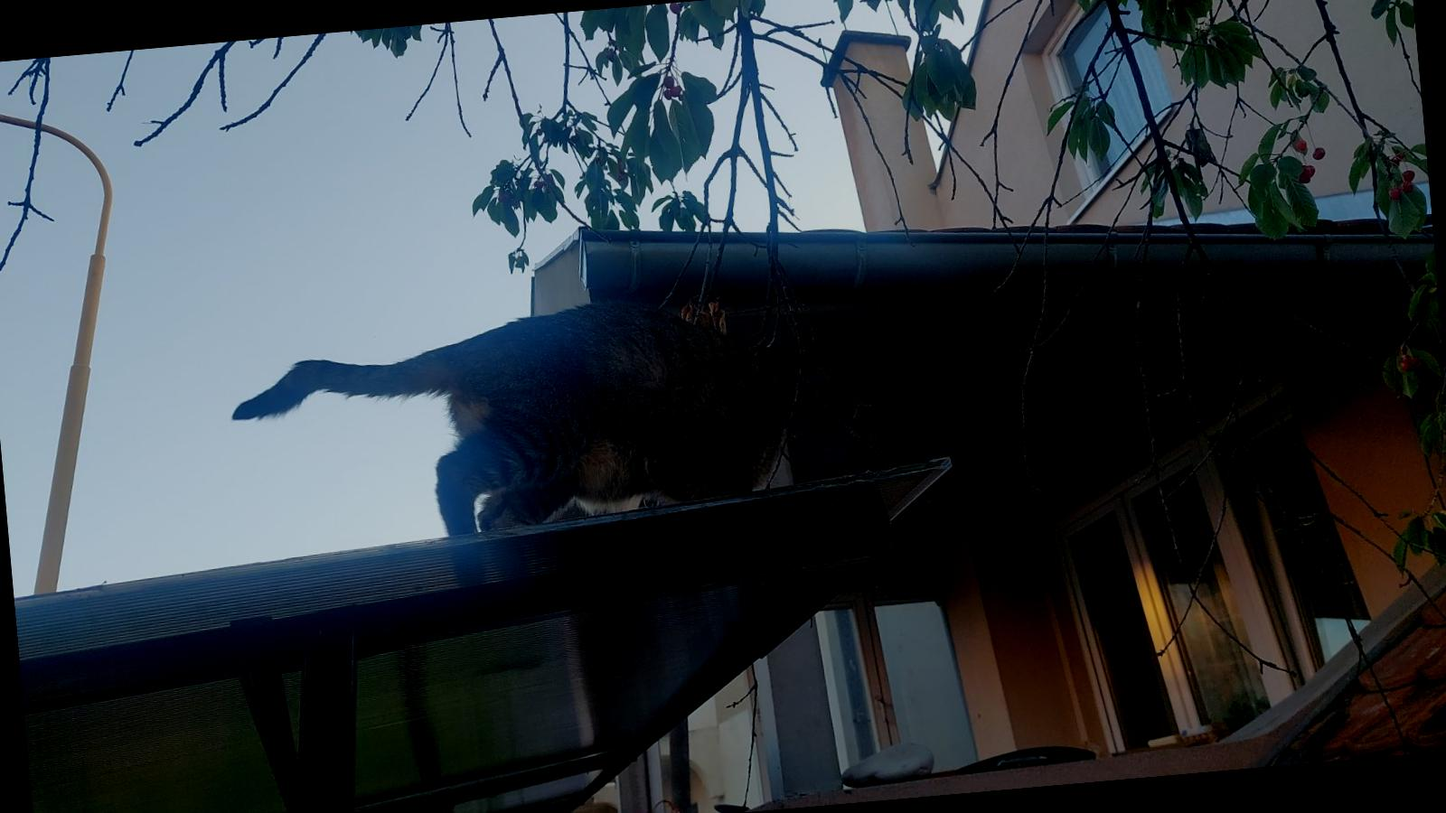macka: (226, 289, 794, 604)
